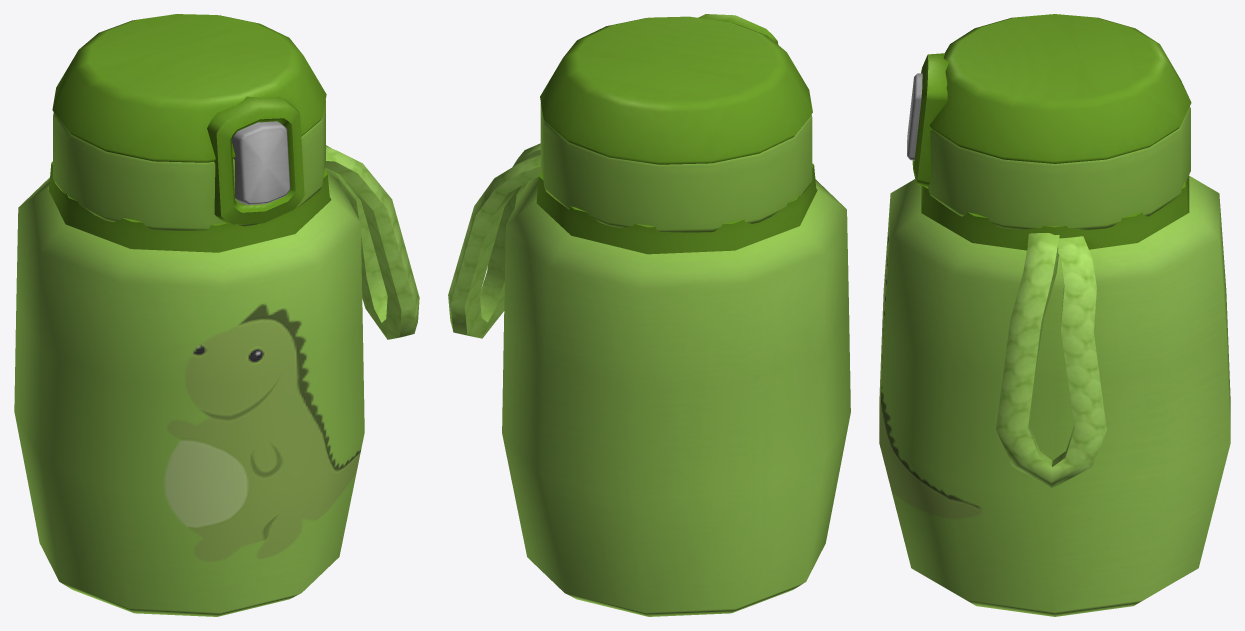
File: waterbottle.fbx
3 renders of one model, left to right at view 1: azimuth 30°, elevation 25°; view 2: azimuth 150°, elevation 25°; view 3: azimuth 270°, elevation 25°, orthographic.
Visible parts, largest first — view 1: waterbottle; view 2: waterbottle; view 3: waterbottle.
Part boxes in pixels (x1=…): waterbottle: x1=14, y1=14, x2=419, y2=616; waterbottle: x1=448, y1=14, x2=850, y2=616; waterbottle: x1=879, y1=14, x2=1230, y2=616.
Size of the model in its own units: 64.64 by 86.35 by 53.87.
